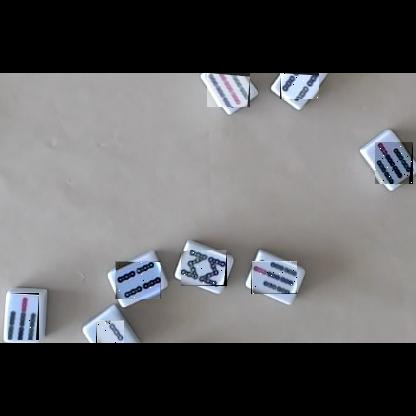2s: (96, 320, 124, 343)
4s: (115, 261, 161, 299), (280, 73, 319, 99)
7s: (375, 142, 413, 184), (251, 261, 297, 294), (8, 293, 39, 340)
8s: (181, 250, 227, 286)
9s: (207, 73, 250, 107)
